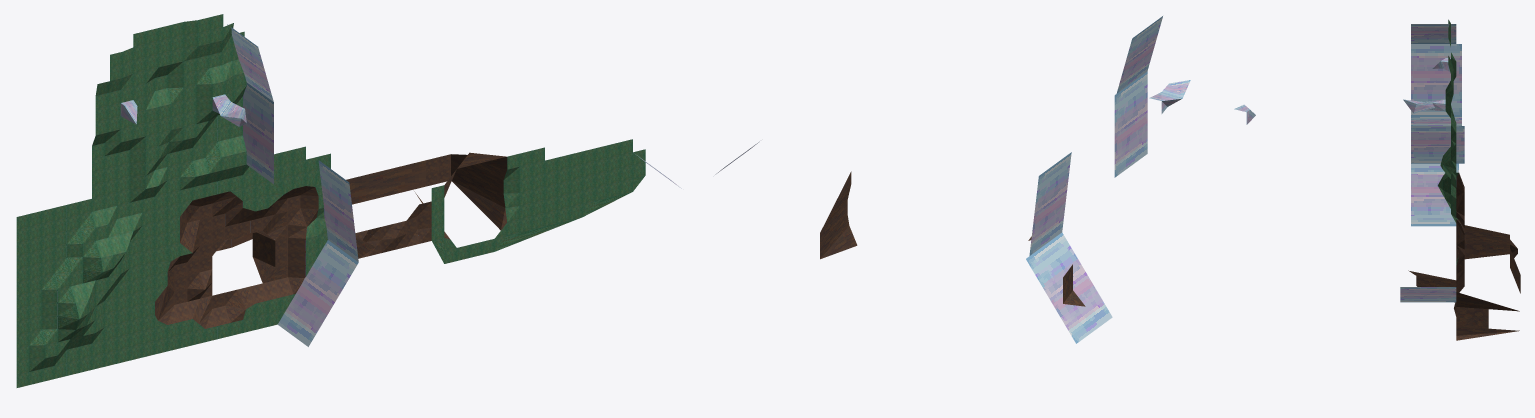
The model's file is arena.gltf.
3 renders of one model, left to right at view 1: azimuth 30°, elevation 25°; view 2: azimuth 150°, elevation 25°; view 3: azimuth 270°, elevation 25°, orthographic. The views are drawn at different scales.
Size of the model in its own units: 100 by 50 by 22.5.
Materials: 1 (1 with a texture image).
